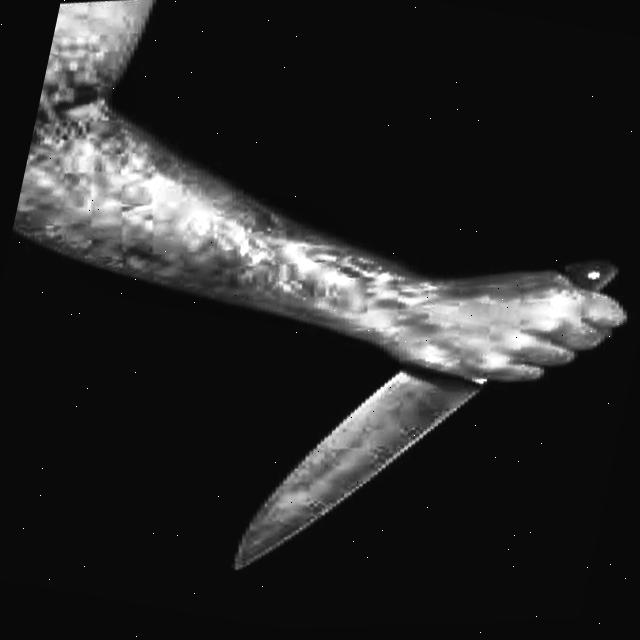pisau: (219, 240, 626, 595)
